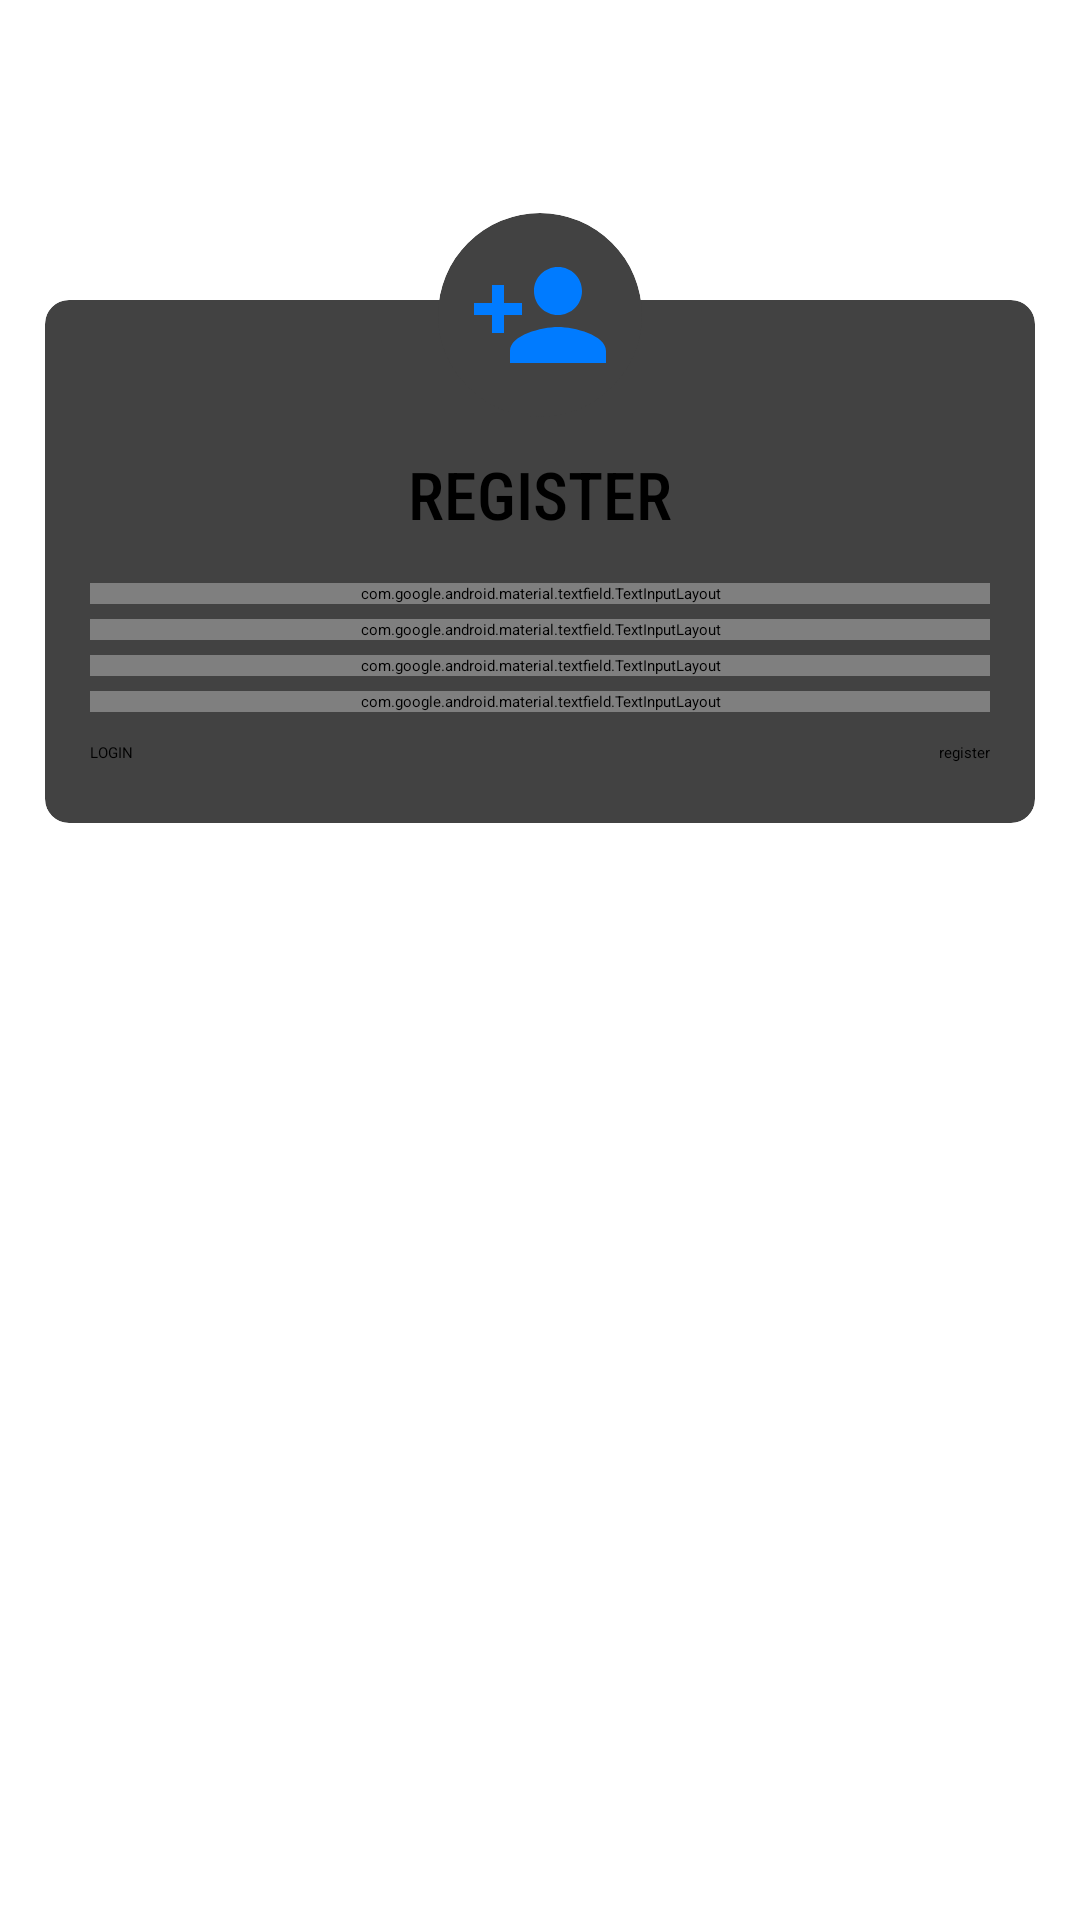

Point at icon controls on the screen. Image size 1080 × 1920, points as [x,y].
person: [540,315]
